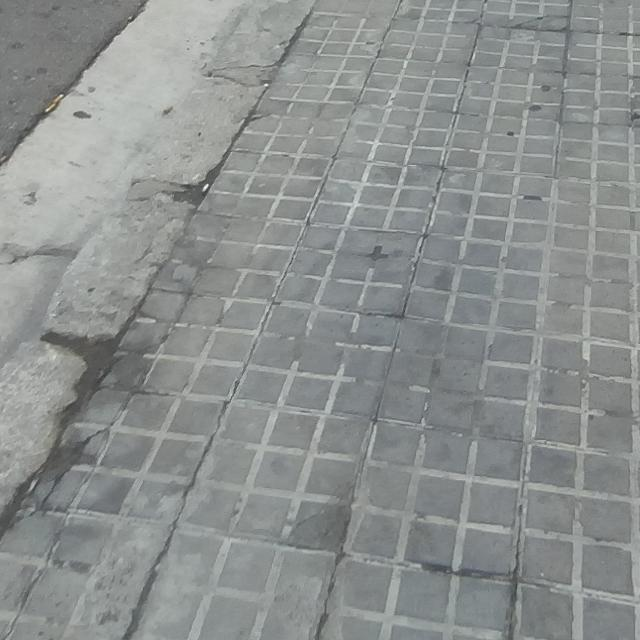calcada_quebrada: (13, 427, 135, 547), (77, 345, 162, 408), (506, 6, 572, 37)
